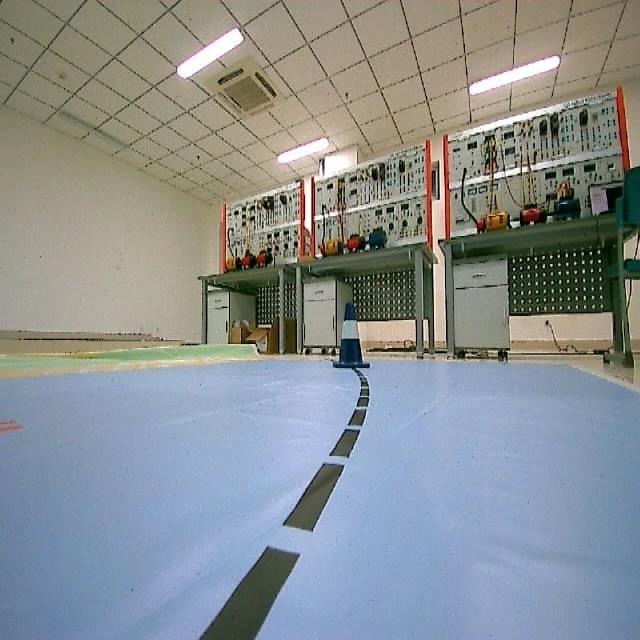obstacle: (330, 302, 373, 374)
